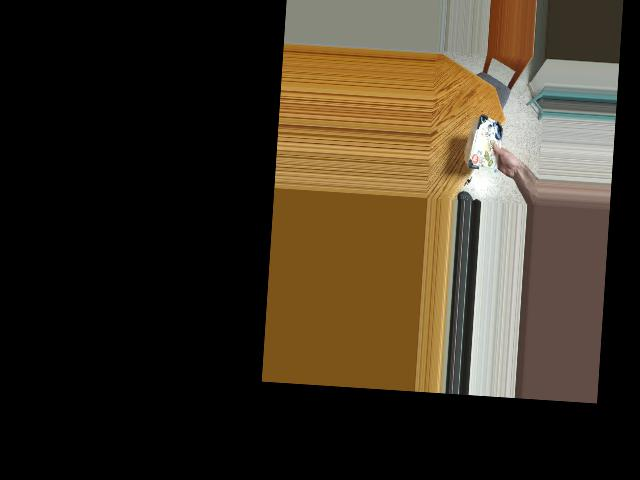cheese: (466, 116, 509, 170)
